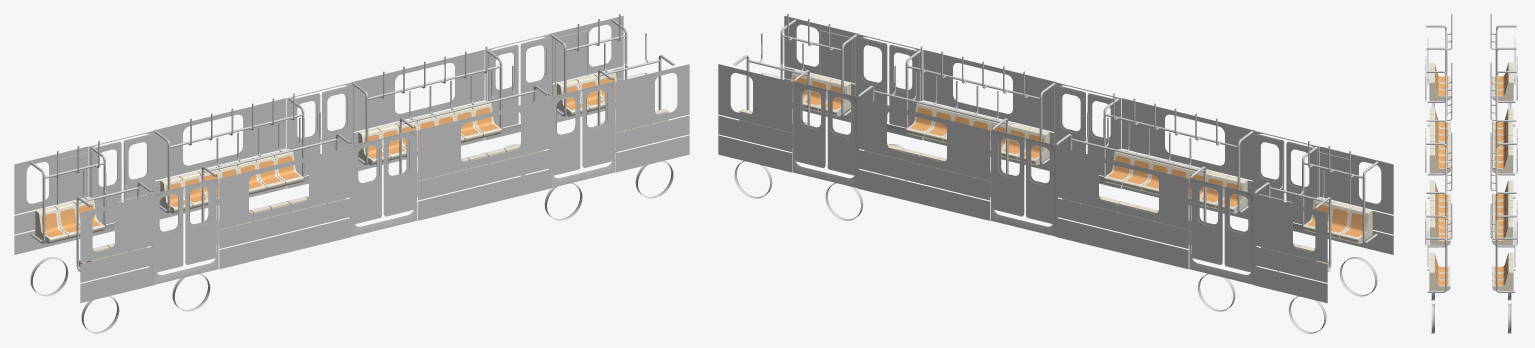
The model's file is untitled-interior.glb.
The picture shows the model from 3 angles, left to right: view 1: azimuth 30°, elevation 25°; view 2: azimuth 150°, elevation 25°; view 3: azimuth 270°, elevation 25°; orthographic projection. The views are drawn at different scales.
Visible parts, largest first — view 1: SubwayCar; view 2: SubwayCar; view 3: SubwayCar.
Boxes of the visible parts, box(x1,y1,x2,y2) form: SubwayCar: box(14, 14, 689, 333); SubwayCar: box(718, 14, 1393, 333); SubwayCar: box(1425, 14, 1517, 333).
Bounding box in the file's own units: 4132 × 997 × 774.
